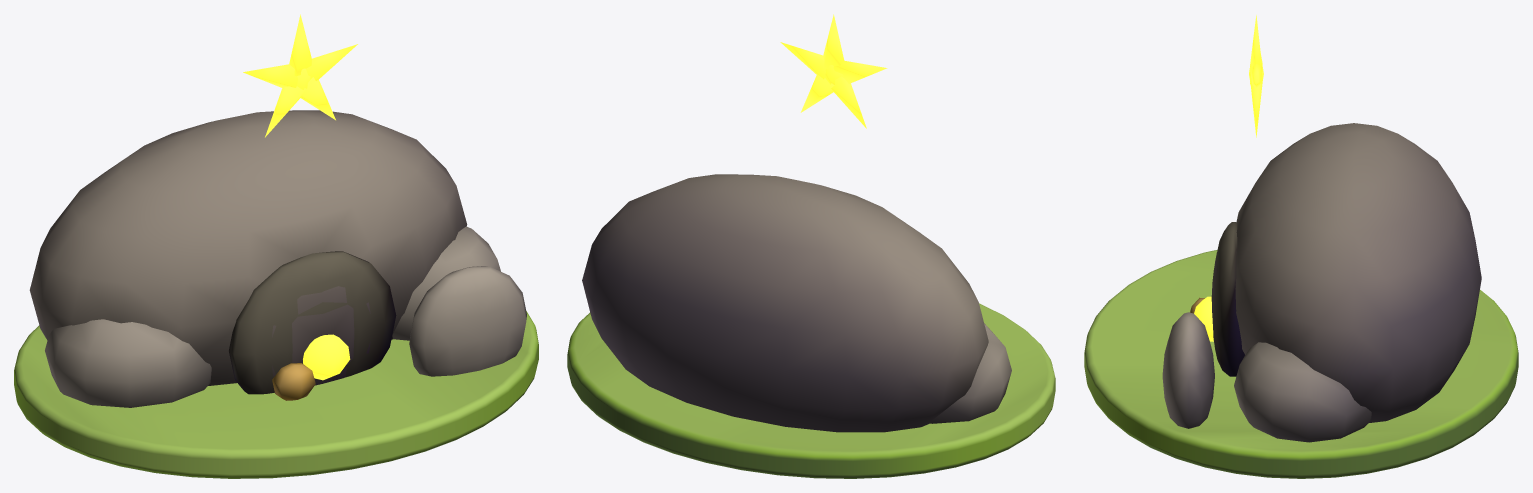
The model's file is lions.glb.
3 renders of one model, left to right at view 1: azimuth 30°, elevation 25°; view 2: azimuth 150°, elevation 25°; view 3: azimuth 270°, elevation 25°, orthographic. The views are drawn at different scales.
Parts seen in each view (by area): view 1: lions; view 2: lions; view 3: lions.
Boxes of the visible parts, left/top/right/bottom form: lions: left=14, top=14, right=538, bottom=478; lions: left=567, top=14, right=1055, bottom=478; lions: left=1084, top=15, right=1518, bottom=478.
Size of the model in its own units: 6.31 by 4.9 by 5.36.
